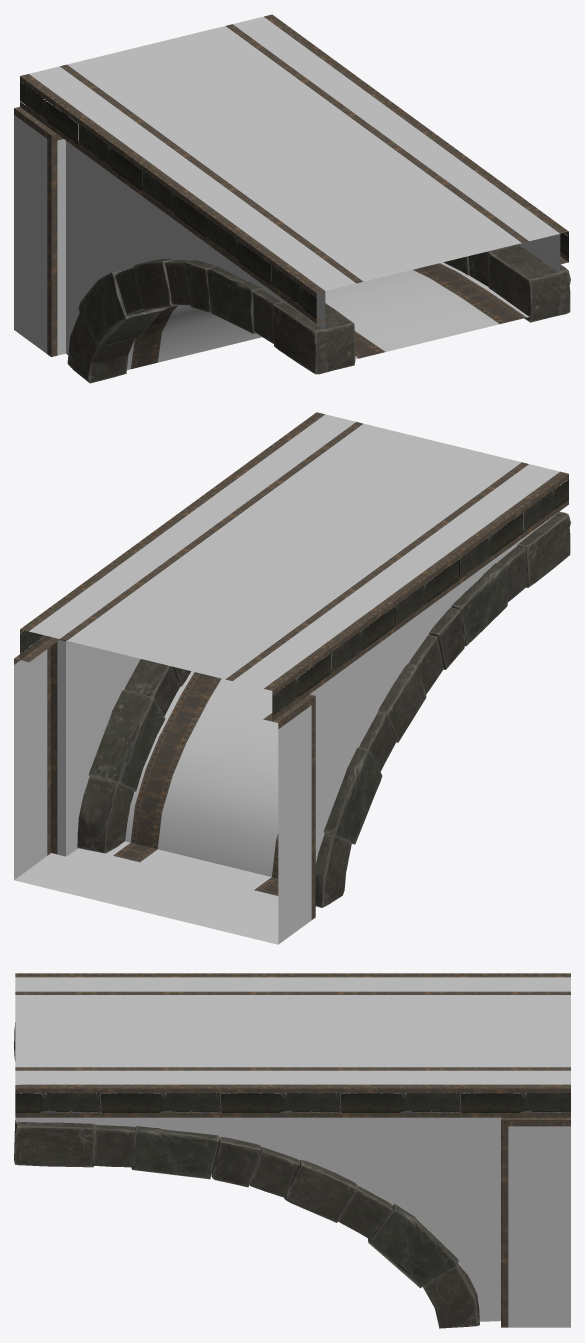
3 renders of one model, top to bottom at view 1: azimuth 30°, elevation 25°; view 2: azimuth 150°, elevation 25°; view 3: azimuth 270°, elevation 25°, orthographic. The views are drawn at different scales.
Parts seen in each view (by area): view 1: SM_Dowdun_Bridge_L_01_LOD0; view 2: SM_Dowdun_Bridge_L_01_LOD0; view 3: SM_Dowdun_Bridge_L_01_LOD0.
Boxes of the visible parts, x1=… form: SM_Dowdun_Bridge_L_01_LOD0: x1=14, y1=14, x2=570, y2=383; SM_Dowdun_Bridge_L_01_LOD0: x1=14, y1=412, x2=570, y2=944; SM_Dowdun_Bridge_L_01_LOD0: x1=14, y1=973, x2=570, y2=1328.
Bounding box in the file's own units: 9 × 8.33 × 17.54.
